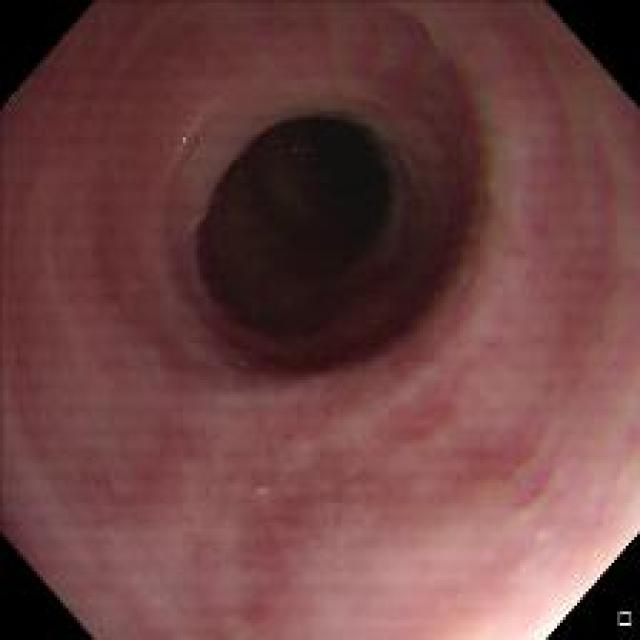blur: (136, 378, 635, 638)
color misalignment: (469, 128, 510, 288), (372, 124, 431, 232), (442, 50, 489, 140), (410, 4, 442, 55), (454, 254, 484, 308), (172, 116, 199, 152)
contrast: (199, 108, 438, 360)
saturation: (515, 586, 588, 638)
